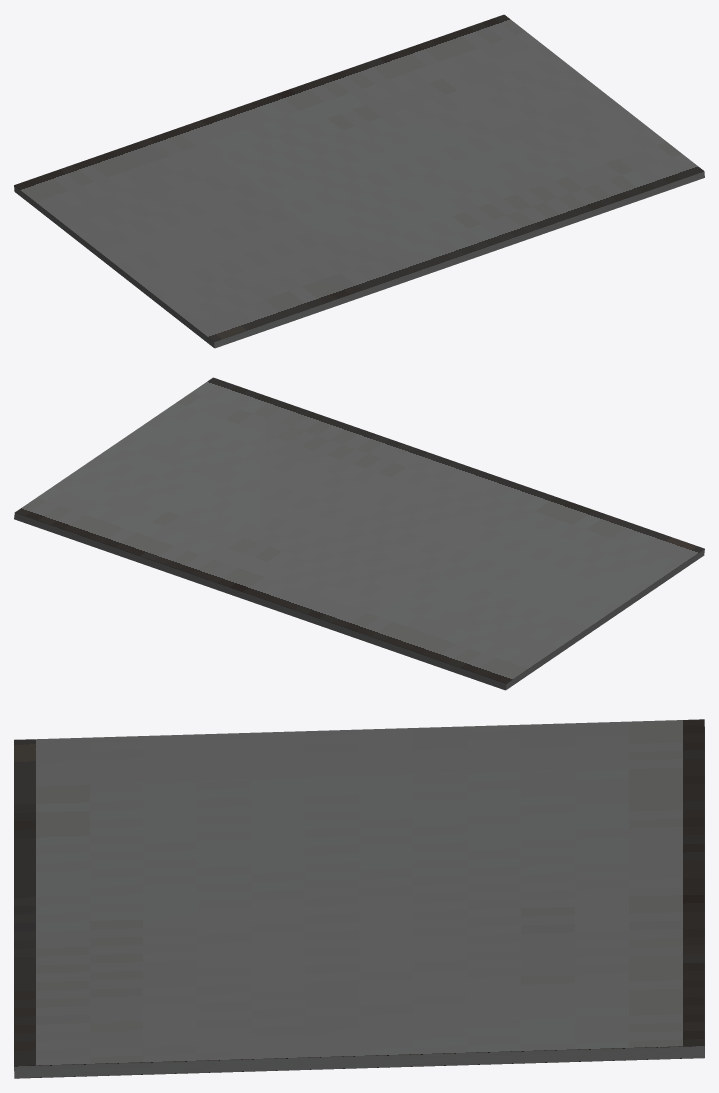
Rendered from prop_paper-1.glb.
3 views of the same model, one above another, from view 1: azimuth 30°, elevation 25°; view 2: azimuth 150°, elevation 25°; view 3: azimuth 270°, elevation 25° (orthographic). The views are drawn at different scales.
Parts seen in each view (by area): view 1: prop_paper-1; view 2: prop_paper-1; view 3: prop_paper-1.
Boxes of the visible parts, <box> form: prop_paper-1: <box>14,14,704,348</box>; prop_paper-1: <box>14,377,704,690</box>; prop_paper-1: <box>14,719,704,1078</box>.
Bounding box in the file's own units: 0.2996 × 0.0403 × 0.21.
Materials: 1 (1 with a texture image).
